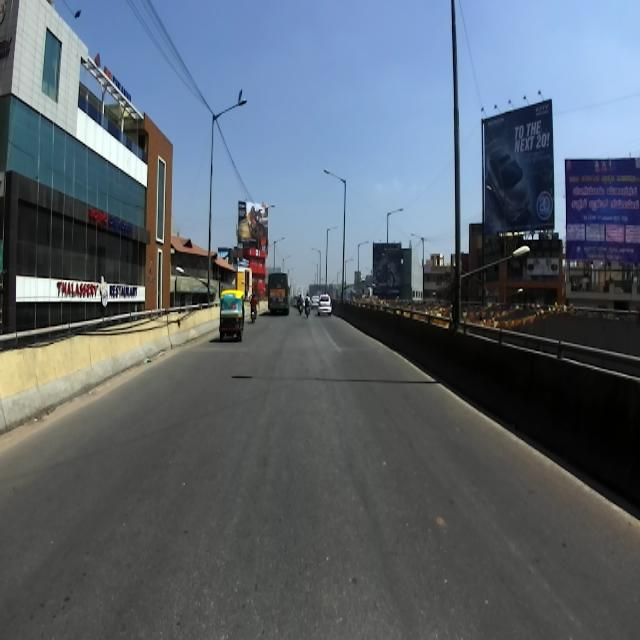auto ahead at: (212, 285, 248, 344)
